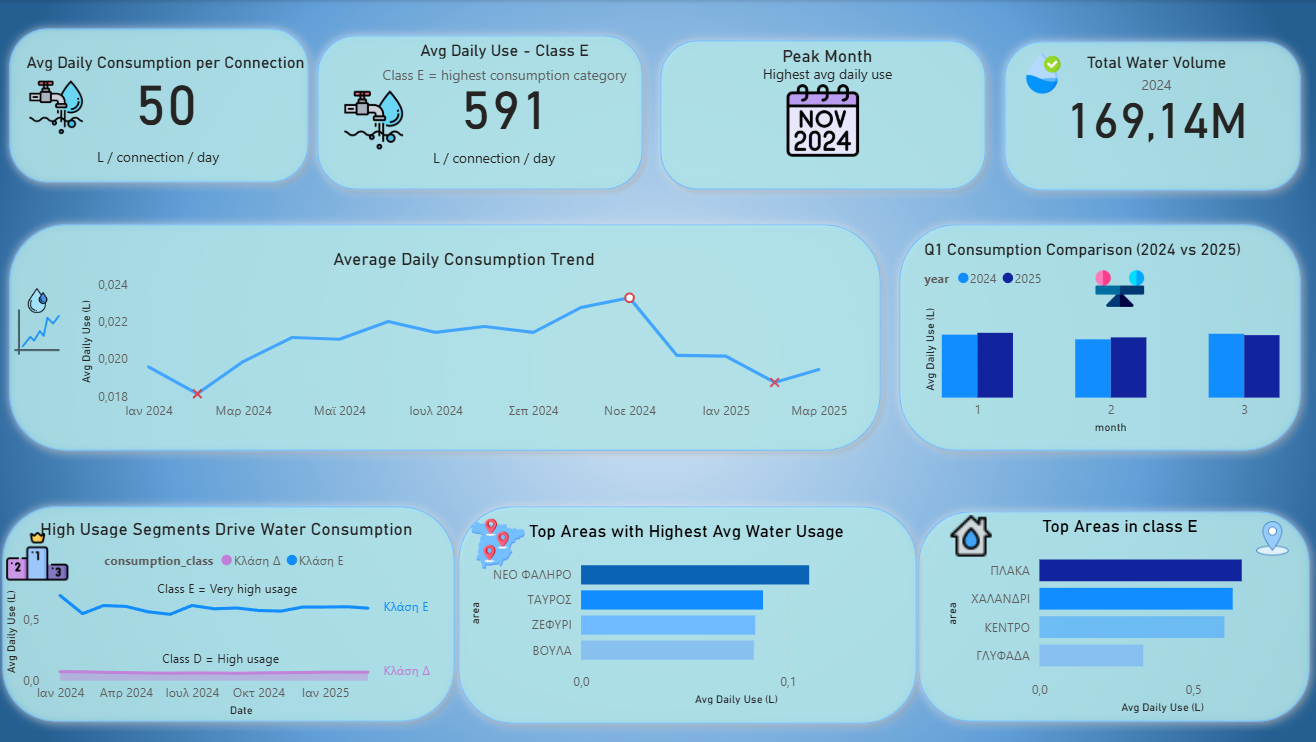

What the dashboard file says about the page in this screenshot:
{"tool":"powerbi","page":{"name":"Page 1","canvas":[1280,720],"ordinal":0},"visuals":[{"type":"shape","box":[967.2,30.9,304.1,162.2],"z":0},{"type":"shape","box":[884.2,484.6,395.8,221.1],"z":1000},{"type":"shape","box":[865.9,207.5,405.4,236.5],"z":2000},{"type":"shape","box":[440.2,479.8,460.5,227.8],"z":3000},{"type":"shape","box":[0,479.8,454.7,225.9],"z":4000},{"type":"shape","box":[6.8,207.5,859.1,236.5],"z":5000},{"type":"shape","box":[6.8,18.3,307,167],"z":6000},{"type":"card","title":"Avg Daily Consumption  per Connection","fields":{"Values":["Avg(water_analysis water_consumption.consumption_per_connection_day)"]},"box":[6.8,50.2,319.5,90.7],"z":7000},{"type":"shape","box":[635.2,29.9,332.1,162.2],"z":8000},{"type":"shape","box":[304.1,25.1,332.1,167],"z":9000},{"type":"card","title":"Avg Daily Use - Class E","fields":{"Values":["Avg(water_analysis water_consumption.consumption_per_connection_day)"]},"box":[334,38.6,319.5,102.3],"z":10000},{"type":"textbox","box":[91.7,137.1,147.7,36.7],"z":11000},{"type":"textbox","box":[416,138,142.9,36.7],"z":12000},{"type":"textbox","box":[710.5,38.6,190.2,51.2],"z":13000},{"type":"image","box":[750,76.3,101.4,80.1],"z":14000},{"type":"image","box":[29.9,70.5,61.8,66.6],"z":15000},{"type":"image","box":[334,76.3,66.6,79.2],"z":16000},{"type":"lineChart","title":"Average Daily Consumption Trend ","fields":{"Category":["water_analysis water_consumption.date"],"Y":["Avg(water_analysis water_consumption.consumption_per_connection_day)"]},"box":[79.2,239.4,751,175.7],"z":17000},{"type":"image","box":[15.4,290.6,54.1,60.8],"z":18000},{"type":"image","box":[26.1,273.2,34.8,33.8],"z":19000},{"type":"image","box":[987.5,46.3,52.1,49.2],"z":20000},{"type":"lineChart","title":"High Usage Segments Drive Water Consumption","fields":{"Category":["water_analysis water_consumption.date"],"Y":["Avg(water_analysis water_consumption.consumption_per_connection_day)"],"Series":["water_analysis water_consumption.consumption_class"]},"box":[6.8,500,437.3,196],"z":21000},{"type":"barChart","title":"Top Areas with Highest Avg Water Usage","fields":{"Category":["water_analysis water_consumption.area"],"Y":["Avg(water_analysis water_consumption.consumption_per_connection_day)"]},"box":[454.7,502,429.6,183.4],"z":22000},{"type":"textbox","box":[158.3,620.7,149.6,30.9],"z":23000},{"type":"textbox","box":[153.5,553.1,160.2,30.9],"z":24000},{"type":"image","box":[454.7,492.3,64.7,65.6],"z":25000},{"type":"image","box":[6.8,502,72.4,70.5],"z":26000},{"type":"clusteredColumnChart","title":"Q1 Consumption Comparison (2024 vs 2025)","fields":{"Category":["water_analysis water_consumption.month","water_analysis water_consumption.date.Variation.Date Hierarchy.Quarter"],"Series":["water_analysis water_consumption.year"],"Y":["Avg(water_analysis water_consumption.consumption_per_connection_day)"]},"box":[893.9,230.7,353.3,192.1],"z":27000},{"type":"image","box":[1051.2,250,72.4,57],"z":28000},{"type":"barChart","title":"Top Areas in class E","fields":{"Category":["water_analysis water_consumption.area"],"Y":["Avg(water_analysis water_consumption.consumption_per_connection_day)"]},"box":[915.1,497.1,345.6,196],"z":29000},{"type":"image","box":[915.1,492.3,57.9,50.2],"z":30000},{"type":"image","box":[1209.5,497.1,51.2,45.4],"z":31000},{"type":"card","title":"Total Water Volume ","fields":{"Values":["water_analysis water_consumption.Total_Consumptions"]},"box":[1008.7,50.2,228.8,102.3],"z":32000}]}

Visuals, with their boxes in screenshot pixels (x1, y1, x2, y2), scaled from the page's 1280x720 canvas onto the 1316x742 screenshot:
shape: 994:32:1307:199
shape: 909:499:1315:727
shape: 890:214:1307:458
shape: 453:494:926:729
shape: 0:494:467:727
shape: 7:214:890:458
shape: 7:19:323:191
"Avg Daily Consumption  per Connection" card: 7:52:335:145
shape: 653:31:995:198
shape: 313:26:654:198
"Avg Daily Use - Class E" card: 343:40:672:145
textbox: 94:141:246:179
textbox: 428:142:575:180
textbox: 730:40:926:93
image: 771:79:875:161
image: 31:73:94:141
image: 343:79:412:160
"Average Daily Consumption Trend " lineChart: 81:247:854:428
image: 16:299:71:362
image: 27:282:63:316
image: 1015:48:1069:98
"High Usage Segments Drive Water Consumption" lineChart: 7:515:457:717
"Top Areas with Highest Avg Water Usage" barChart: 467:517:909:706
textbox: 163:640:317:672
textbox: 158:570:323:602
image: 467:507:534:575
image: 7:517:81:590
"Q1 Consumption Comparison (2024 vs 2025)" clusteredColumnChart: 919:238:1282:436
image: 1081:258:1155:316
"Top Areas in class E" barChart: 941:512:1296:714
image: 941:507:1000:559
image: 1244:512:1296:559
"Total Water Volume " card: 1037:52:1272:157
